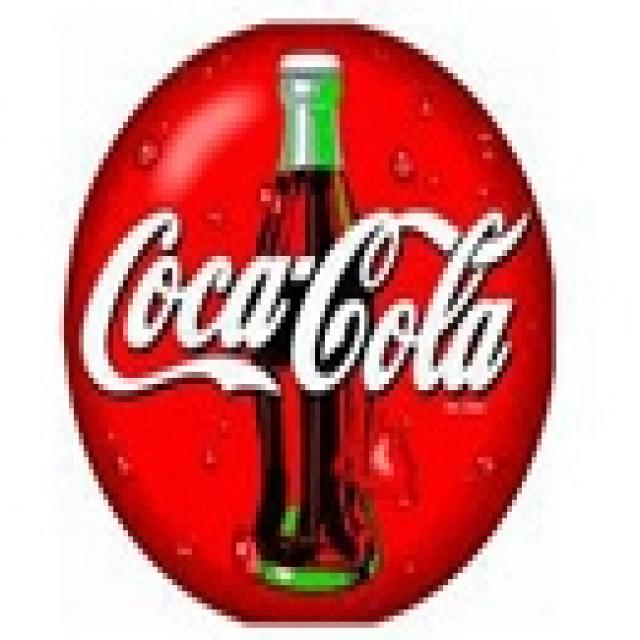cocacola: (70, 196, 567, 428)
